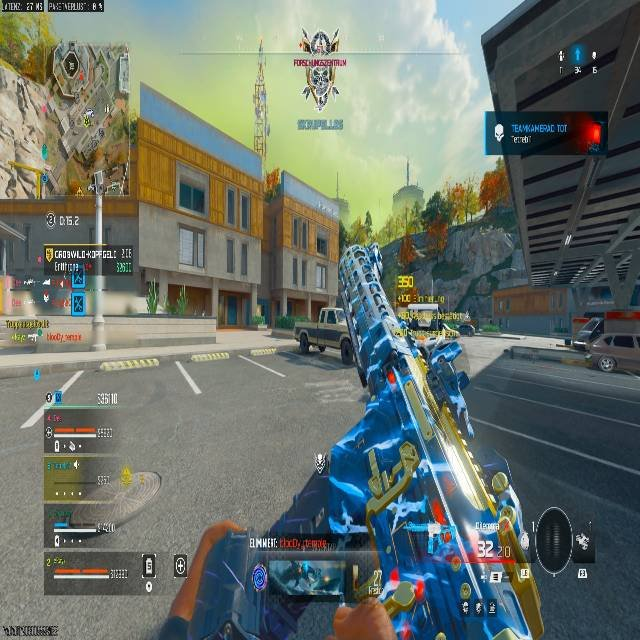head: (419, 191, 450, 245)
